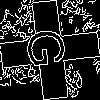G: (25, 25, 76, 70)
